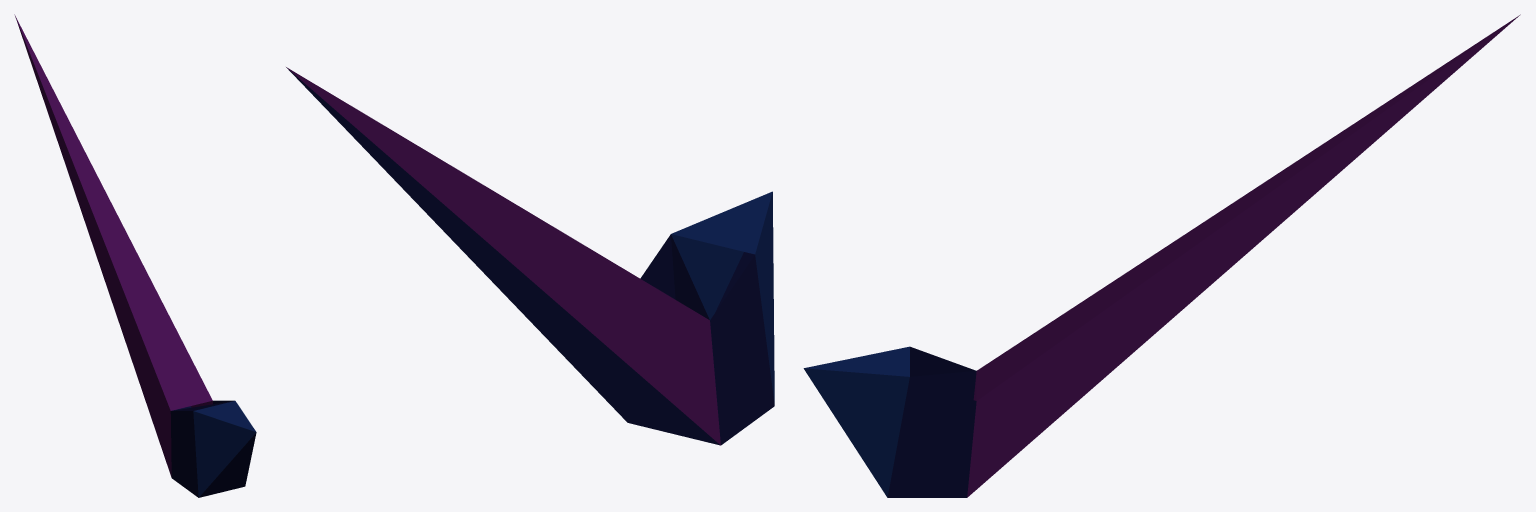
Rendered from spikey_purples_blues.obj.
3 views of the same model, side by side, from view 1: azimuth 30°, elevation 25°; view 2: azimuth 150°, elevation 25°; view 3: azimuth 270°, elevation 25° (orthographic). The views are drawn at different scales.
Parts seen in each view (by area): view 1: Cube; view 2: Cube; view 3: Cube.
Boxes of the visible parts, box(x1,y1,x2,y2) form: Cube: box(14, 14, 256, 497); Cube: box(286, 67, 774, 445); Cube: box(803, 14, 1520, 497).
Bounding box in the file's own units: 2 × 13.09 × 18.04.
